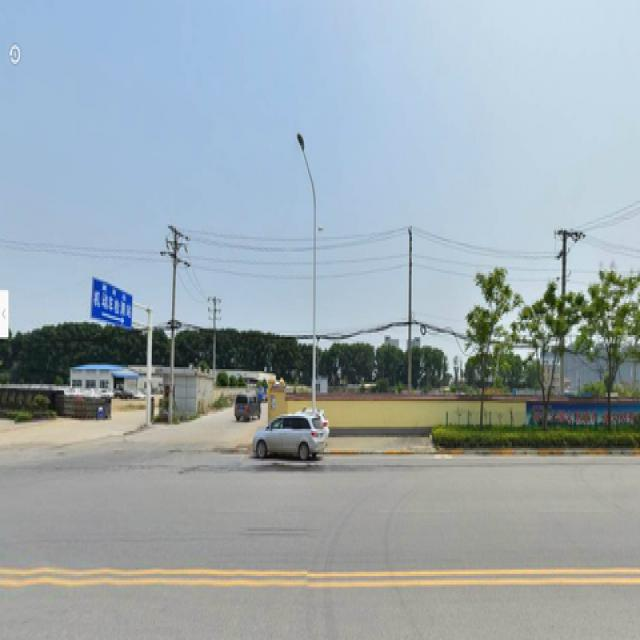koel: (528, 303, 580, 437), (461, 268, 492, 426), (595, 282, 629, 412)
